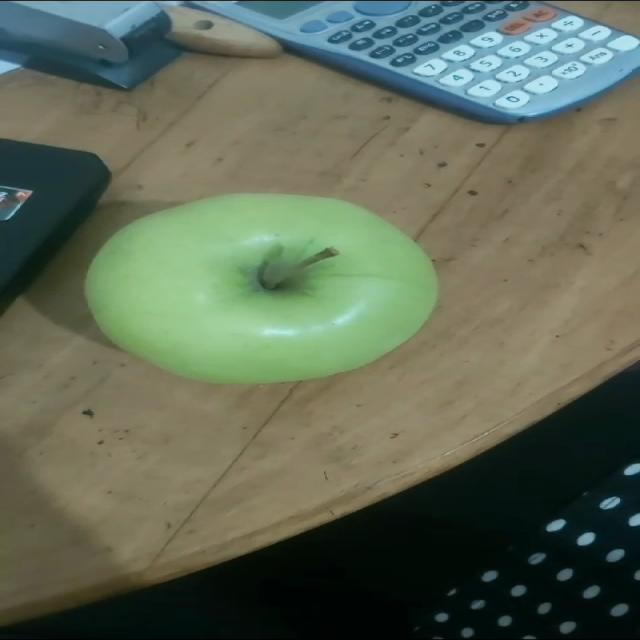50-_ripeness: (83, 192, 437, 381)
